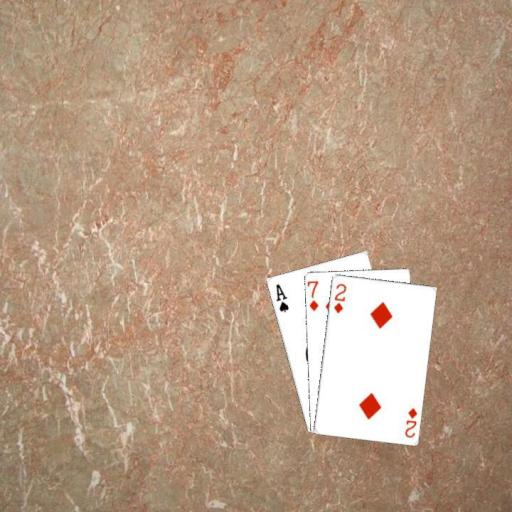2D: (331, 280, 347, 314), (402, 405, 418, 439)
7D: (306, 278, 319, 313)
AS: (272, 280, 290, 314)
